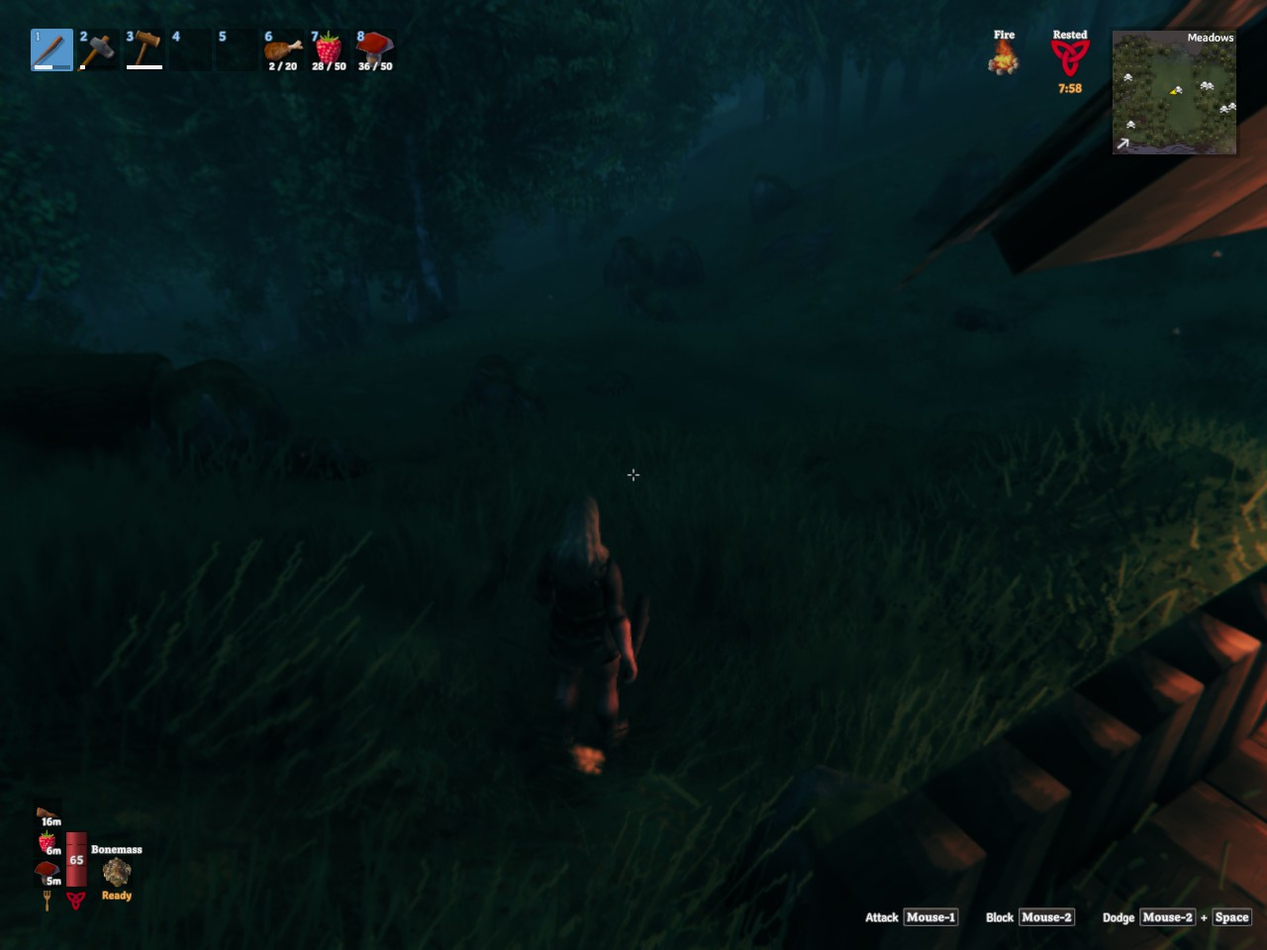Fire Status: (979, 21, 1036, 92)
